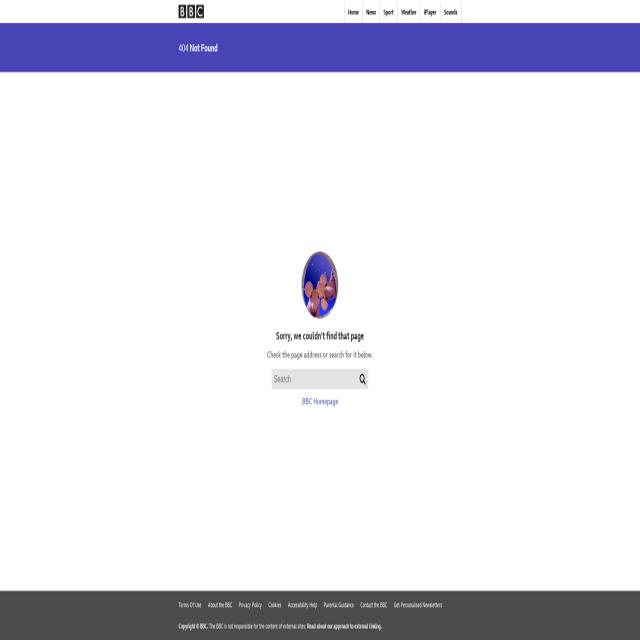button: (299, 247, 341, 323), (398, 2, 420, 23), (441, 2, 462, 23), (420, 2, 440, 23), (344, 2, 363, 23), (362, 2, 380, 23), (380, 2, 398, 23), (179, 5, 204, 18), (358, 369, 368, 389)
field: (272, 369, 354, 389)
